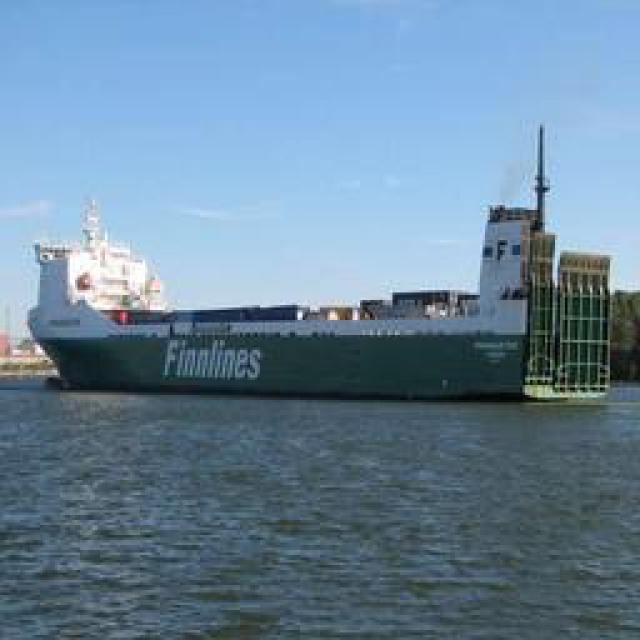Ship: (36, 147, 599, 395)
